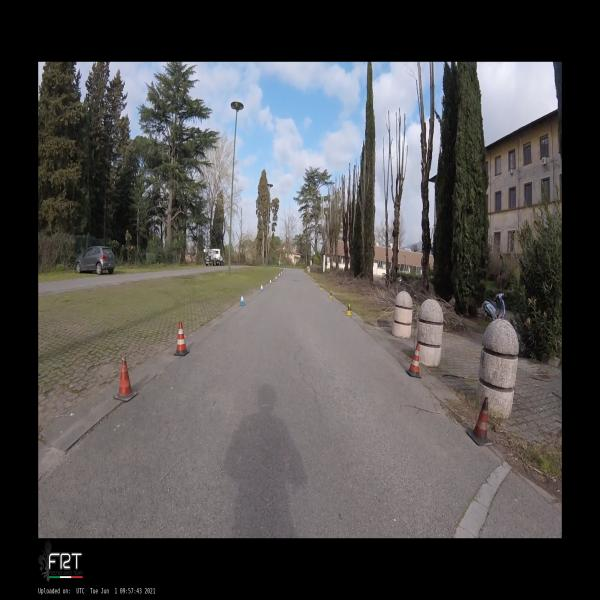blue_cone: (239, 293, 246, 306), (260, 284, 264, 291), (269, 279, 272, 284), (275, 276, 277, 280)
large_orange_cone: (467, 397, 492, 446), (113, 357, 138, 402), (406, 343, 421, 379), (174, 321, 189, 356)
yellow_cone: (346, 304, 351, 316), (329, 290, 332, 299), (320, 284, 323, 290), (315, 280, 317, 284), (312, 276, 312, 280)
